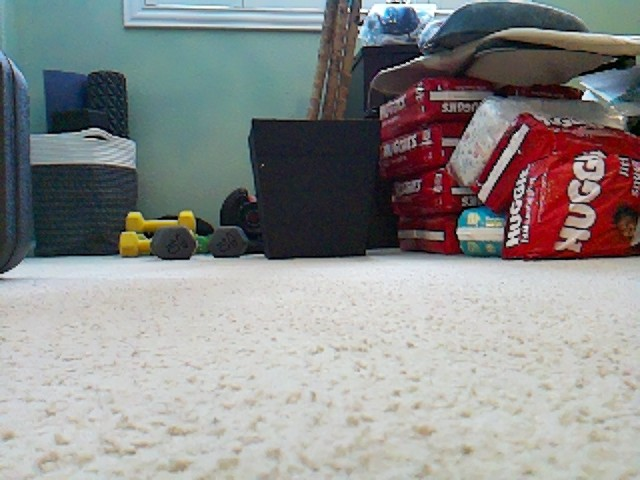Drivable Area: (35, 262, 640, 480), (0, 286, 52, 480)
Obstacle: (383, 62, 640, 259), (26, 58, 249, 259), (248, 120, 381, 257), (0, 48, 33, 284)
